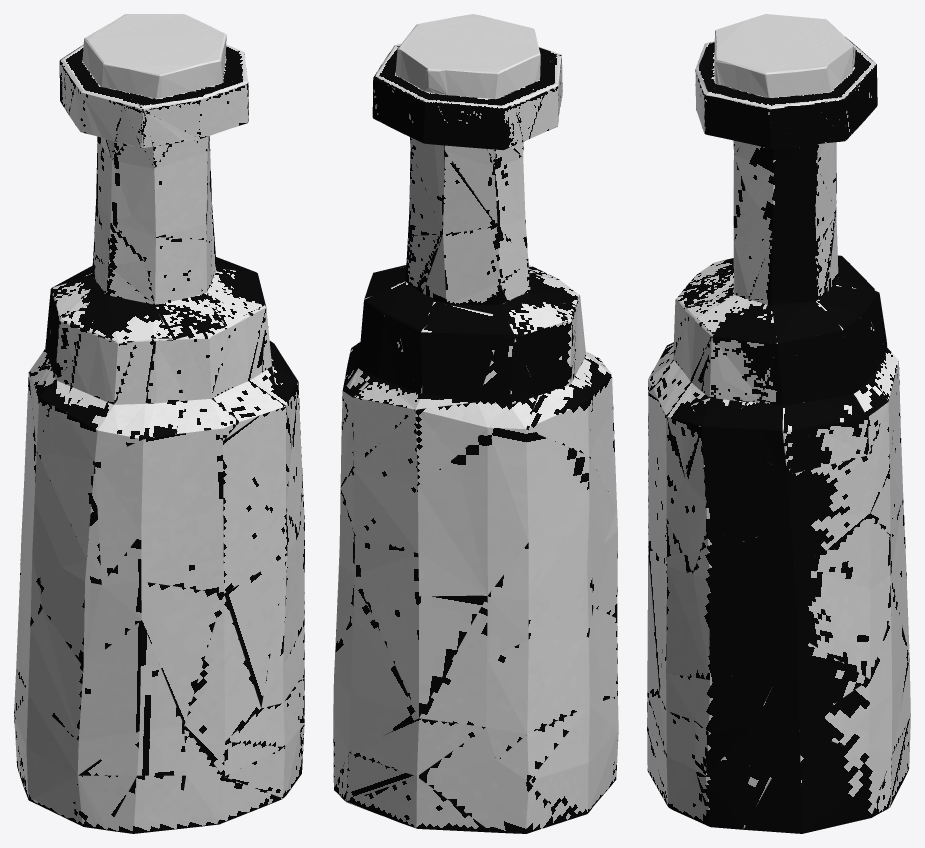
3 renders of one model, left to right at view 1: azimuth 30°, elevation 25°; view 2: azimuth 150°, elevation 25°; view 3: azimuth 270°, elevation 25°, orthographic.
Parts seen in each view (by area): view 1: OBJ0be; view 2: OBJ0be; view 3: OBJ0be.
Part boxes in pixels (bbox=[...]): OBJ0be: bbox=[14, 14, 304, 833]; OBJ0be: bbox=[333, 14, 618, 833]; OBJ0be: bbox=[647, 14, 910, 833].
Size of the model in its own units: 0.126 by 0.3556 by 0.1161.
1 material, 1 textured.
